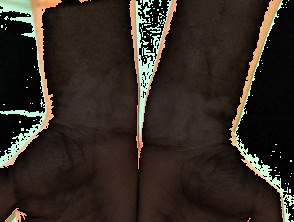vitiligo: (133, 64, 249, 185), (49, 57, 141, 149)
